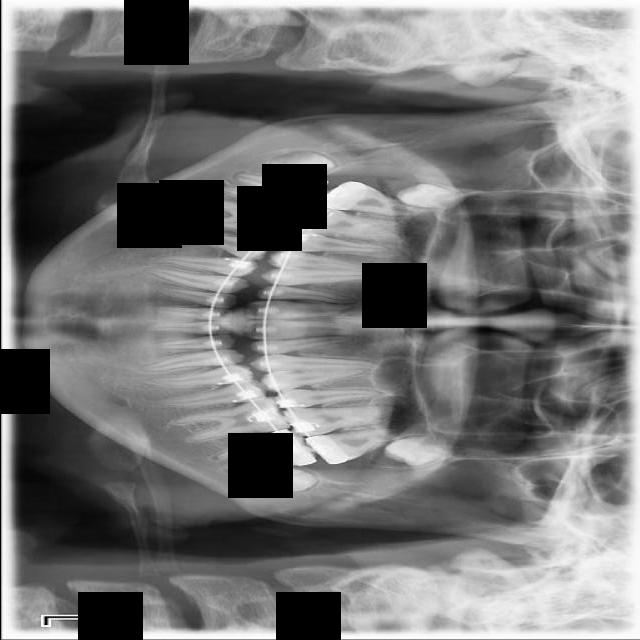3M ESPE Implant: (393, 180, 465, 212)
73: (48, 588, 62, 600)
BioHorizons Implant: (305, 422, 413, 467)
BioLife Implant: (379, 432, 455, 470)
Biomet 3i Implant: (250, 459, 317, 496)
Blue Sky Bio Implant: (204, 426, 319, 477)
Caries: (317, 178, 423, 218)
Implant: (218, 172, 330, 212)
Keystone Dental Implant: (269, 150, 336, 179)
